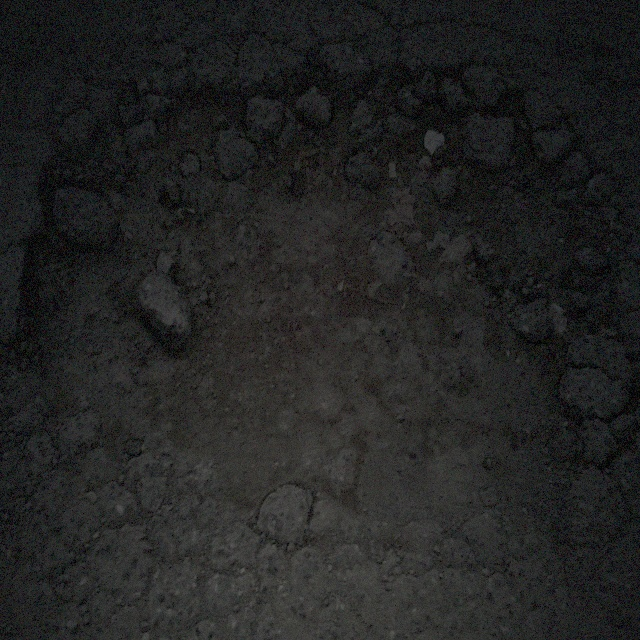pothole: (11, 42, 608, 579)
